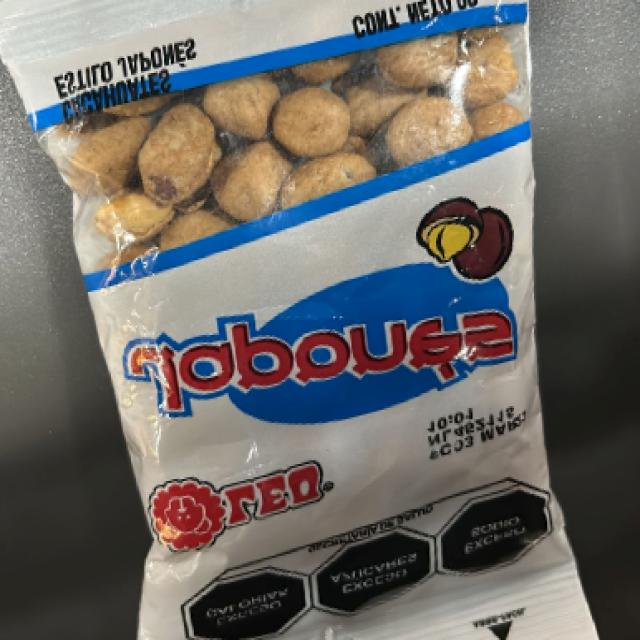leoCacahuates: (135, 16, 530, 616)
